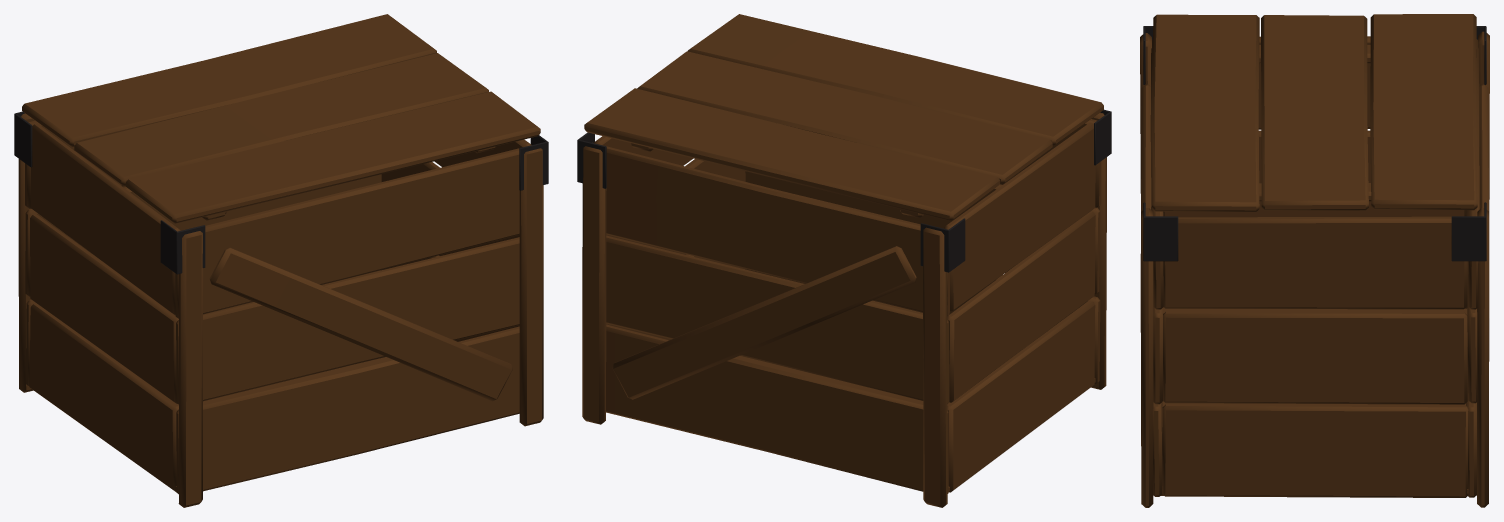
File: kiste.glb
3 views of the same model, side by side, from view 1: azimuth 30°, elevation 25°; view 2: azimuth 150°, elevation 25°; view 3: azimuth 270°, elevation 25° (orthographic). The views are drawn at different scales.
Parts seen in each view (by area): view 1: kiste; view 2: kiste; view 3: kiste.
Boxes of the visible parts, x1,y1,x2,y2 form: kiste: [14, 14, 548, 507]; kiste: [577, 14, 1111, 507]; kiste: [1140, 14, 1489, 507].
Bounding box in the file's own units: 0.828 × 0.6253 × 0.6405.
